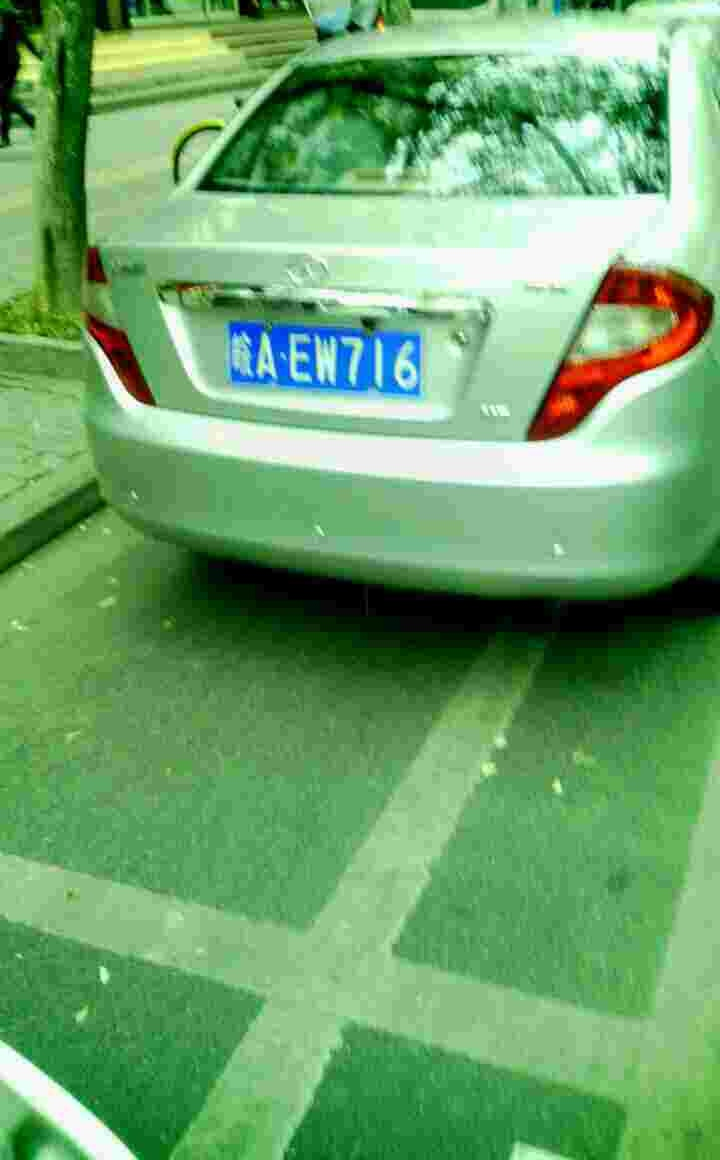license_plate: (226, 327, 433, 398)
